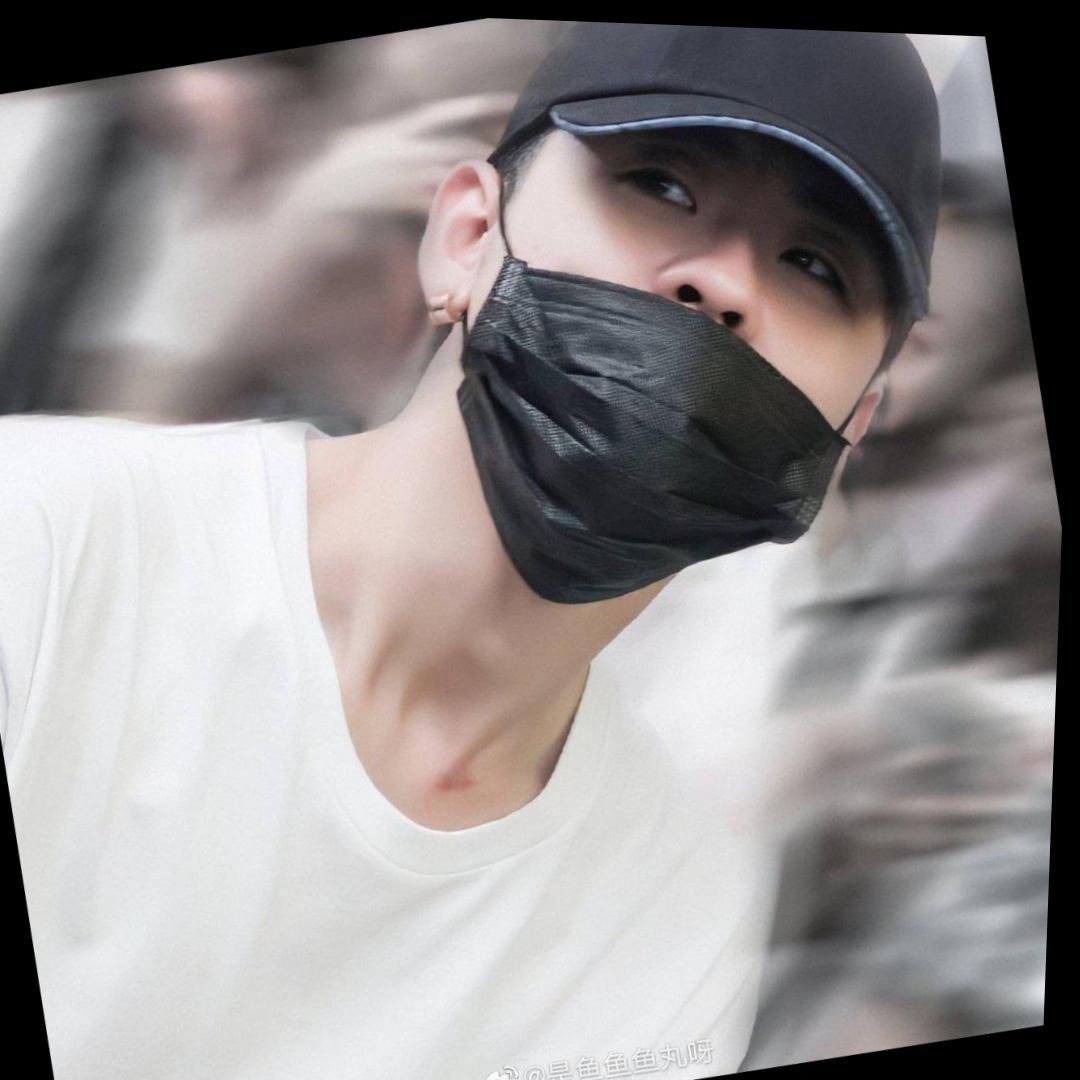WRONG: (436, 93, 931, 577)
